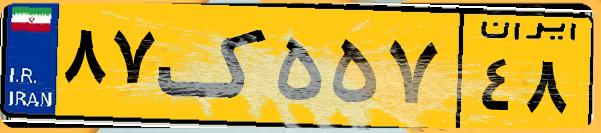4: (475, 38, 525, 113)
5: (270, 28, 330, 110), (330, 28, 385, 110)
7: (385, 28, 445, 110), (110, 28, 158, 98)
8: (57, 26, 110, 100), (525, 38, 570, 115)
ک: (158, 12, 270, 120)
